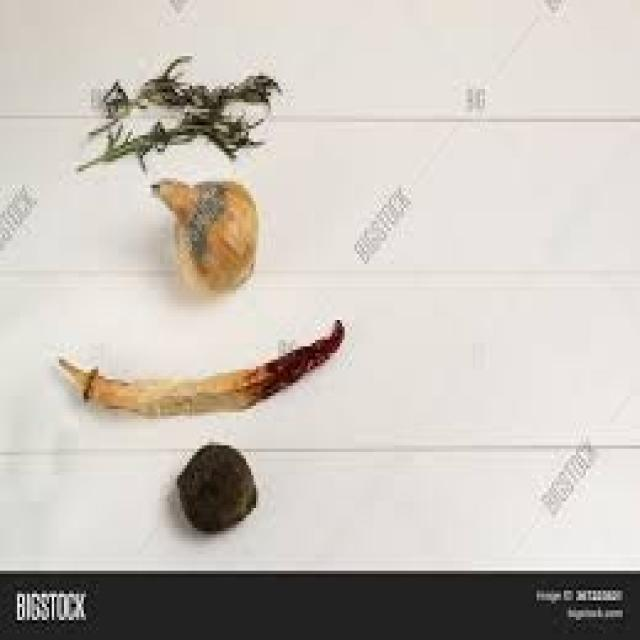biodegradable: (57, 313, 342, 416), (84, 46, 278, 132), (150, 175, 256, 287), (77, 106, 259, 168), (175, 436, 256, 531)
